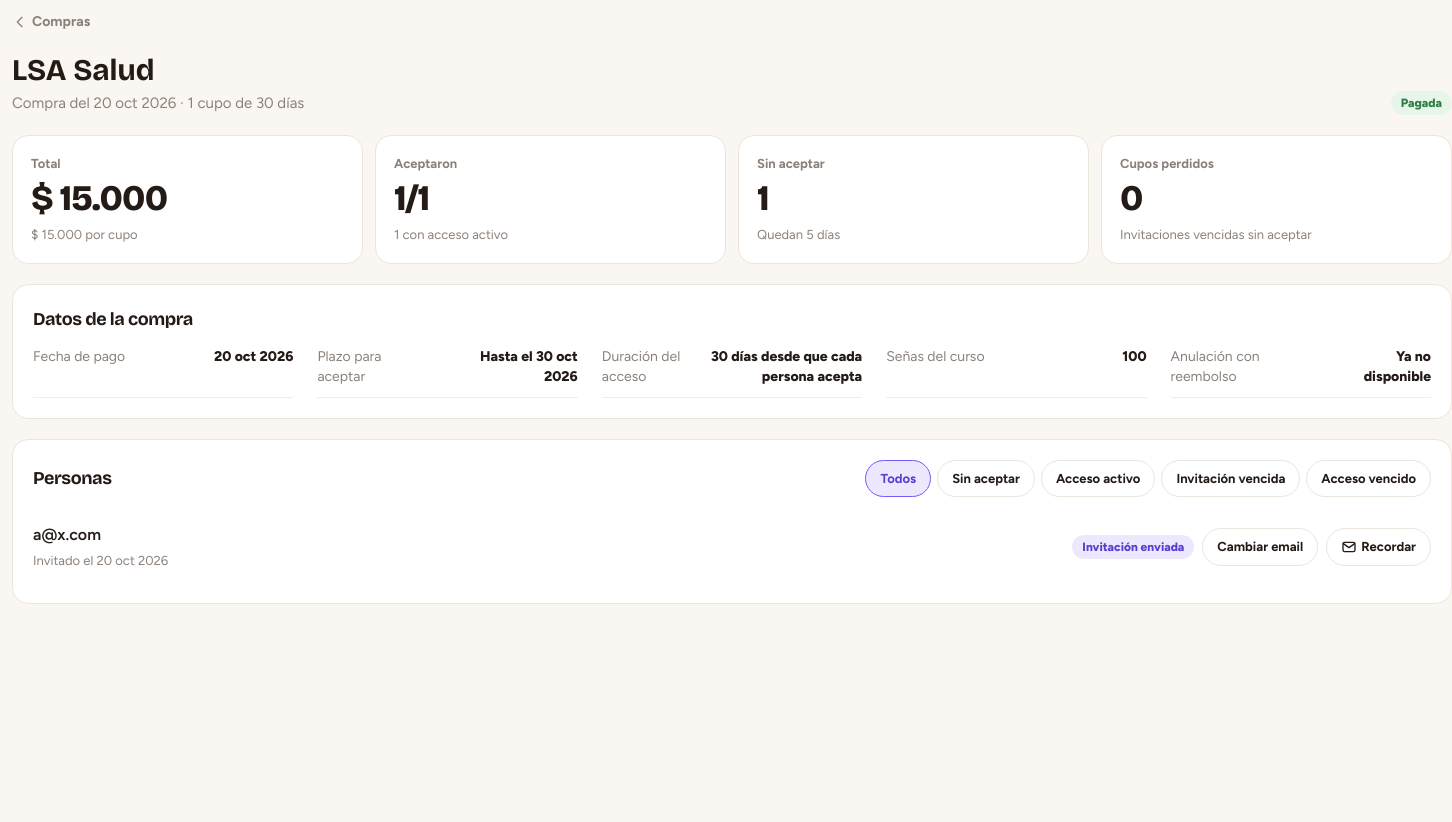
PurchaseDetailPage › changes a pending email
The width and height of the screenshot is (1452, 822).
Click the button "Cambiar email": [1260, 547] box top-left (1202, 528), bottom-right (1318, 566)
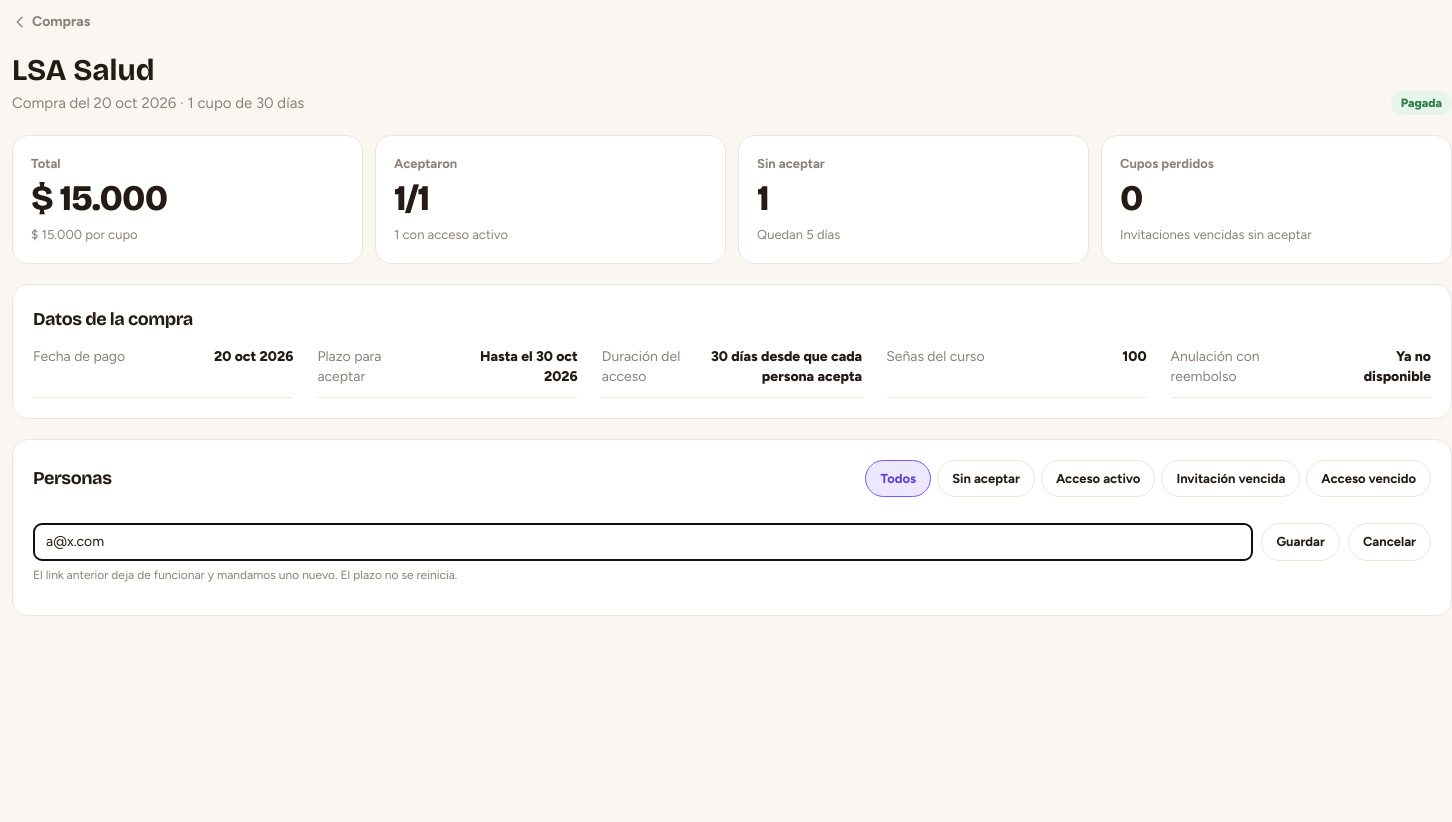
Replace the text in the field named "Nuevo email" with "nueva@x.com": [643, 542] box top-left (33, 523), bottom-right (1253, 560)
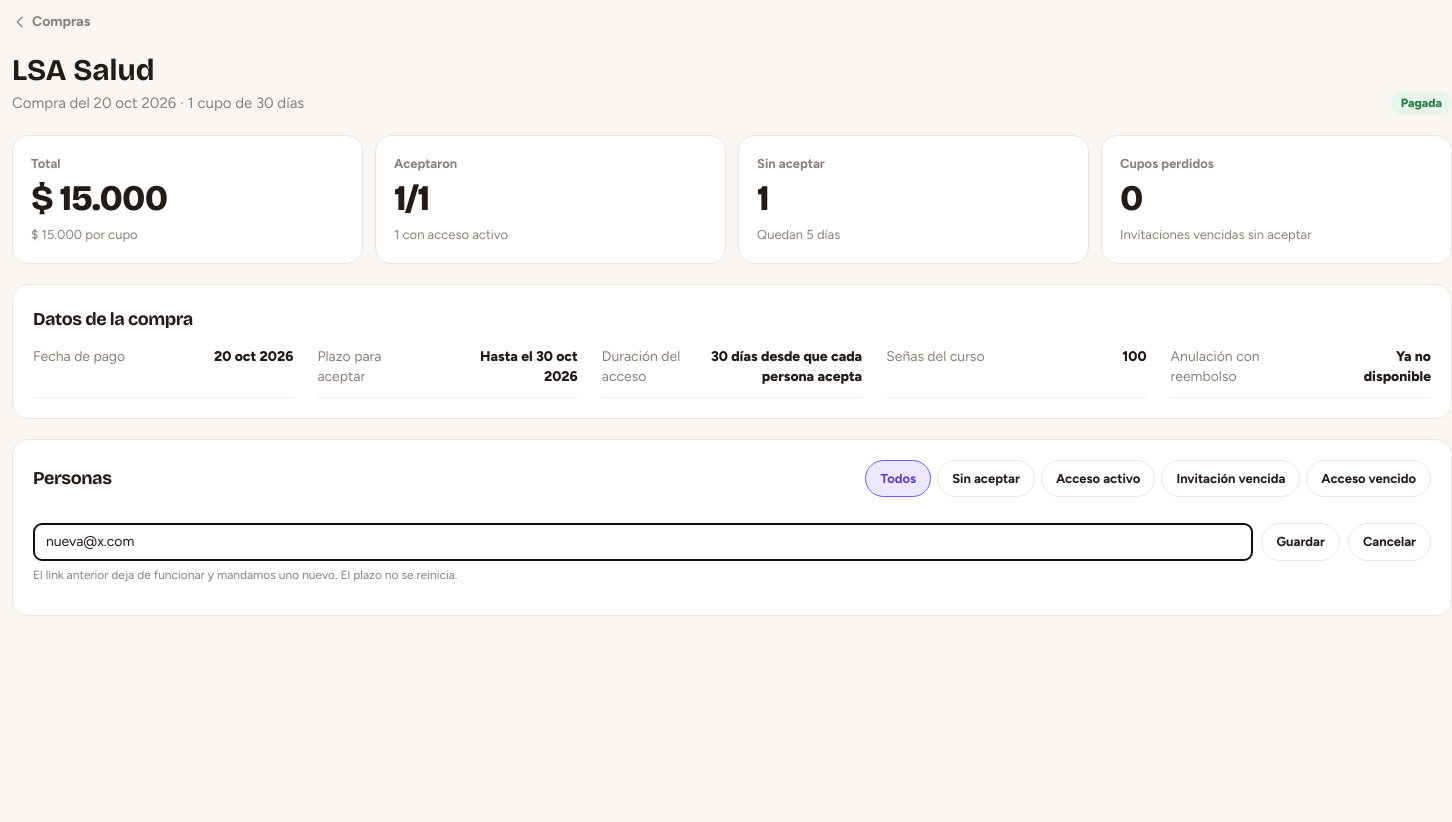
Click the button "Guardar": [1301, 542] box top-left (1261, 523), bottom-right (1340, 560)
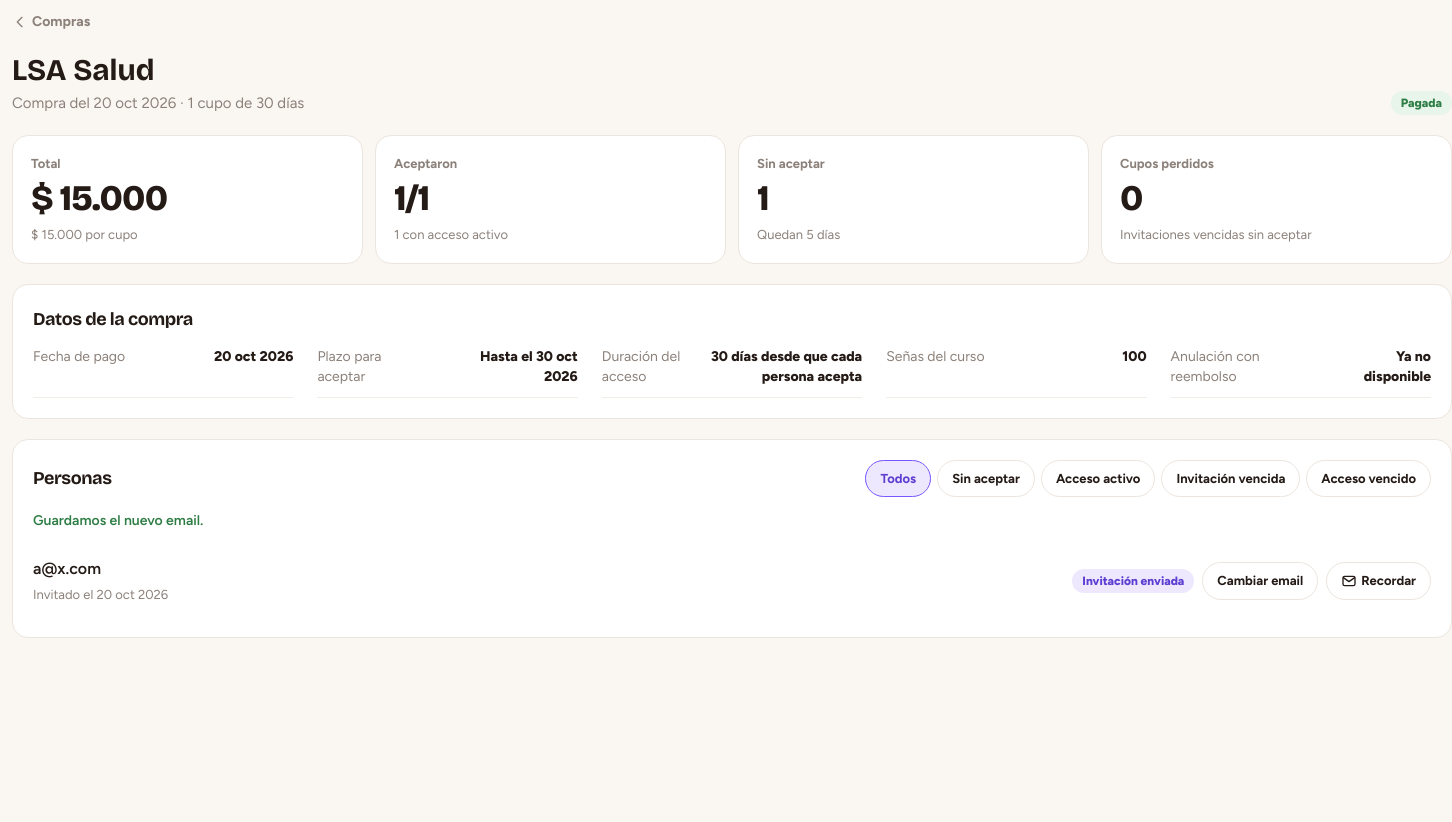
Now the text "Guardamos el nuevo email." is shown, box top-left (33, 512), bottom-right (203, 529)
